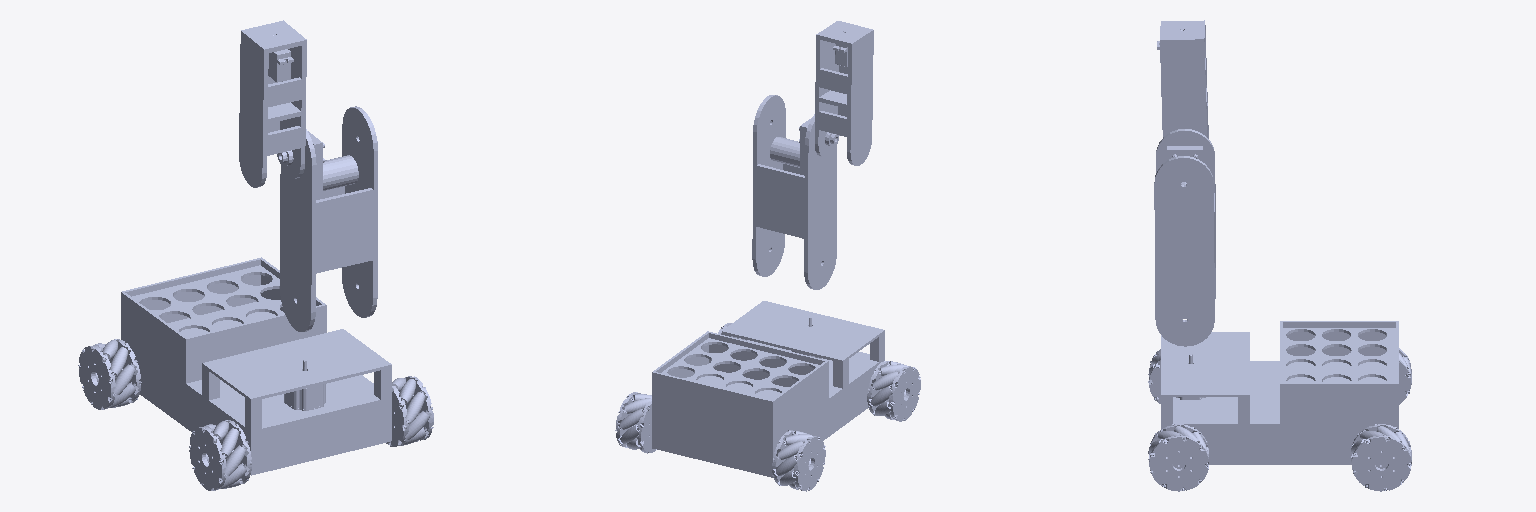
robot.urdf — manipulator1u1:
<?xml version="1.0" encoding="utf-8"?>
<!-- This URDF was automatically created by SolidWorks to URDF Exporter! Originally created by [author] ([email redacted]) 
     Commit Version: 1.6.0-1-g15f4949  Build Version: 1.6.7594.29634
     For more information, please see http://wiki.ros.org/sw_urdf_exporter -->
<robot
  name="manipulator1u1">
  <link
    name="Ground_link">
    <inertial>
      <origin
        xyz="-4.01267902239155E-09 0.154833811975906 -0.0276505560462275"
        rpy="0 0 0" />
      <mass
        value="3.346369786031" />
      <inertia
        ixx="0.0343204547292878"
        ixy="-3.93519296888634E-10"
        ixz="-3.36781864182438E-10"
        iyy="0.020256341441351"
        iyz="0.00201022007836559"
        izz="0.0473690302726349" />
    </inertial>
    <visual>
      <origin
        xyz="0 0 0"
        rpy="0 0 0" />
      <geometry>
        <mesh
          filename="package://manipulator1u1/meshes/Ground_link.STL" />
      </geometry>
      <material
        name="">
        <color
          rgba="0.792156862745098 0.819607843137255 0.933333333333333 1" />
      </material>
    </visual>
    <collision>
      <origin
        xyz="0 0 0"
        rpy="0 0 0" />
      <geometry>
        <mesh
          filename="package://manipulator1u1/meshes/Ground_link.STL" />
      </geometry>
    </collision>
  </link>
  <link
    name="Base_Link">
    <inertial>
      <origin
        xyz="-0.0018409 -3.8802E-05 0.081299"
        rpy="0 0 0" />
      <mass
        value="0.58835" />
      <inertia
        ixx="0.0018017"
        ixy="-8.0801E-06"
        ixz="5.5497E-05"
        iyy="0.0021849"
        iyz="1.1697E-06"
        izz="0.0011149" />
    </inertial>
    <visual>
      <origin
        xyz="0 0 0"
        rpy="0 0 0" />
      <geometry>
        <mesh
          filename="package://manipulator1u1/meshes/Base_Link.STL" />
      </geometry>
      <material
        name="">
        <color
          rgba="0.79216 0.81961 0.93333 1" />
      </material>
    </visual>
    <collision>
      <origin
        xyz="0 0 0"
        rpy="0 0 0" />
      <geometry>
        <mesh
          filename="package://manipulator1u1/meshes/Base_Link.STL" />
      </geometry>
    </collision>
  </link>
  <joint
    name="J_1"
    type="continuous">
    <origin
      xyz="0 0 0.05"
      rpy="0 0 0" />
    <parent
      link="Ground_link" />
    <child
      link="Base_Link" />
    <axis
      xyz="0 0 -1" />
  </joint>
  <link
    name="Shoulder_Link">
    <inertial>
      <origin
        xyz="0.143 0.0040737 0.07225"
        rpy="0 0 0" />
      <mass
        value="0.98156" />
      <inertia
        ixx="0.0027721"
        ixy="-3.4407E-05"
        ixz="5.6661E-05"
        iyy="0.0069733"
        iyz="4.6401E-07"
        izz="0.0059999" />
    </inertial>
    <visual>
      <origin
        xyz="0 0 0"
        rpy="0 0 0" />
      <geometry>
        <mesh
          filename="package://manipulator1u1/meshes/Shoulder_Link.STL" />
      </geometry>
      <material
        name="">
        <color
          rgba="0.79216 0.81961 0.93333 1" />
      </material>
    </visual>
    <collision>
      <origin
        xyz="0 0 0"
        rpy="0 0 0" />
      <geometry>
        <mesh
          filename="package://manipulator1u1/meshes/Shoulder_Link.STL" />
      </geometry>
    </collision>
  </link>
  <joint
    name="J_2"
    type="continuous">
    <origin
      xyz="-0.037923 -0.0037026 0.12"
      rpy="3.1205 -1.5708 0" />
    <parent
      link="Base_Link" />
    <child
      link="Shoulder_Link" />
    <axis
      xyz="0 0.076177 -0.99709" />
  </joint>
  <link
    name="Elbow_Link">
    <inertial>
      <origin
        xyz="0.10965 0.014569 -0.024767"
        rpy="0 0 0" />
      <mass
        value="0.50446" />
      <inertia
        ixx="0.00062795"
        ixy="-3.2869E-05"
        ixz="1.3073E-05"
        iyy="0.0024416"
        iyz="2.4843E-07"
        izz="0.0023224" />
    </inertial>
    <visual>
      <origin
        xyz="0 0 0"
        rpy="0 0 0" />
      <geometry>
        <mesh
          filename="package://manipulator1u1/meshes/Elbow_Link.STL" />
      </geometry>
      <material
        name="">
        <color
          rgba="0.79216 0.81961 0.93333 1" />
      </material>
    </visual>
    <collision>
      <origin
        xyz="0 0 0"
        rpy="0 0 0" />
      <geometry>
        <mesh
          filename="package://manipulator1u1/meshes/Elbow_Link.STL" />
      </geometry>
    </collision>
  </link>
  <joint
    name="J_3"
    type="continuous">
    <origin
      xyz="0.24993 -0.0060648 -0.00046334"
      rpy="0 0 0.008189" />
    <parent
      link="Shoulder_Link" />
    <child
      link="Elbow_Link" />
    <axis
      xyz="0 0 1" />
  </joint>
</robot>

--- Facts derived from the render (not from the file) ---
The picture shows the robot from 3 angles, left to right: view 1: azimuth 30°, elevation 25°; view 2: azimuth 150°, elevation 25°; view 3: azimuth 270°, elevation 25°; orthographic projection.
Model manipulator1u1 with 4 links and 3 joints (3 continuous), rooted at Ground_link, posed every joint at zero.
Links seen in each view (by area): view 1: Ground_link, Shoulder_Link, Elbow_Link; view 2: Ground_link, Shoulder_Link, Elbow_Link; view 3: Ground_link, Shoulder_Link, Elbow_Link.
Link boxes in pixels (left/top/right/bottom): Ground_link: left=78, top=257, right=433, bottom=490; Shoulder_Link: left=280, top=106, right=377, bottom=331; Elbow_Link: left=239, top=20, right=306, bottom=187; Ground_link: left=615, top=301, right=920, bottom=491; Shoulder_Link: left=752, top=95, right=836, bottom=289; Elbow_Link: left=815, top=21, right=873, bottom=165; Ground_link: left=1148, top=321, right=1411, bottom=491; Shoulder_Link: left=1154, top=129, right=1215, bottom=346; Elbow_Link: left=1157, top=20, right=1208, bottom=138.
Bounding box of the posed robot: 0.3791 × 0.4431 × 0.7398 m (x, y, z).
Meshes: 4 distinct files referenced, 3 mesh visuals loaded (3 binary STL); not drawn: 1 (reference not matched to a file when rendering).